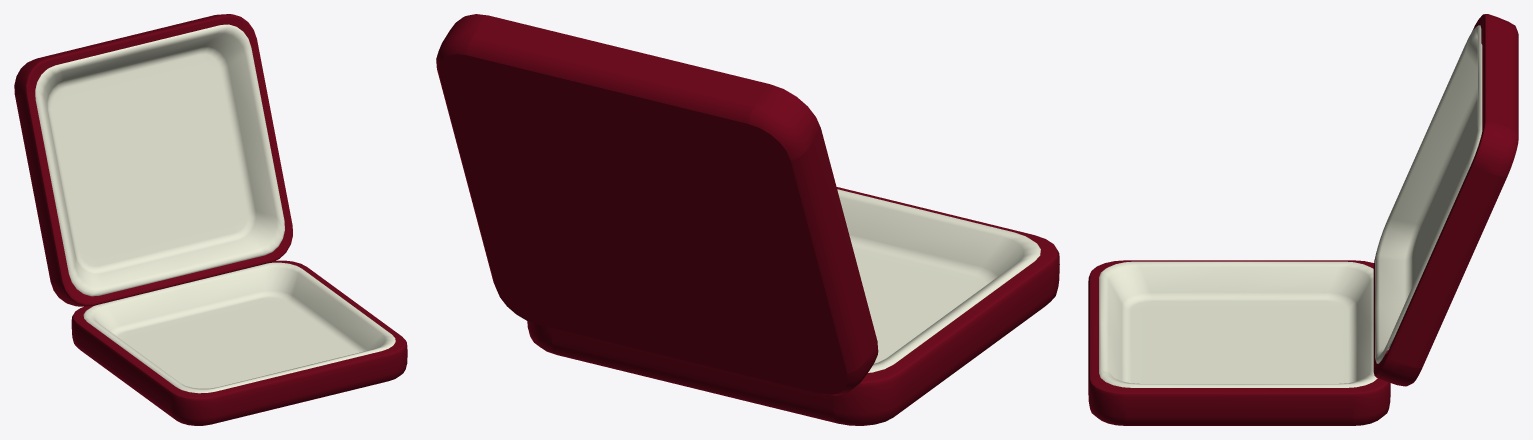
3 renders of one model, left to right at view 1: azimuth 30°, elevation 25°; view 2: azimuth 150°, elevation 25°; view 3: azimuth 270°, elevation 25°, orthographic. The views are drawn at different scales.
Visible parts, largest first — view 1: JB_001; view 2: JB_001; view 3: JB_001.
Boxes of the visible parts, box(x1,y1,x2,y2) form: JB_001: box(14, 14, 407, 425); JB_001: box(436, 14, 1059, 425); JB_001: box(1088, 14, 1518, 425).
Size of the model in its own units: 12.21 by 12.34 by 16.45.
